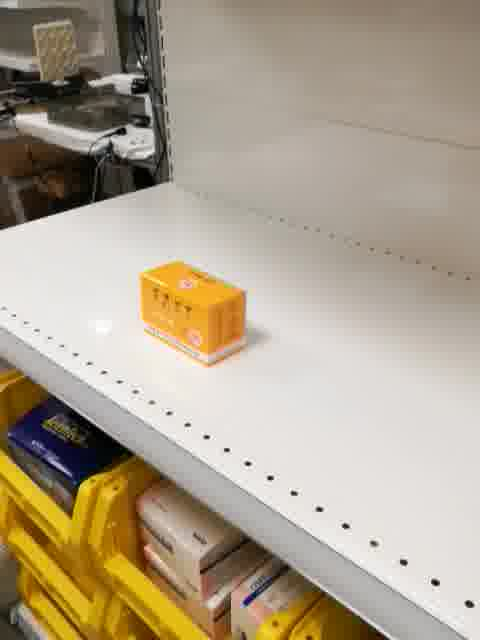jasminetea: (138, 259, 246, 368)
